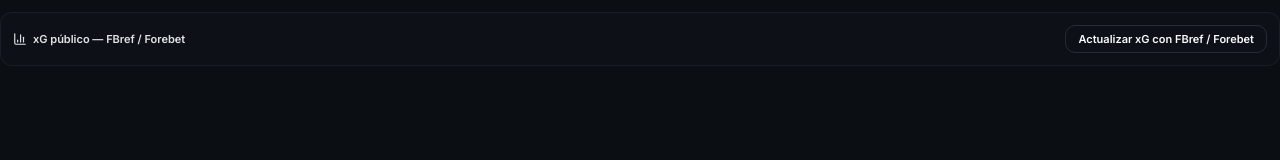
Scenario: PublicXGPanel — fetch trigger › surfaces error message on failed POST
Click the button with test id "public-xg-btn-mt_001" at (1166, 39), box [1066,25,1267,53]
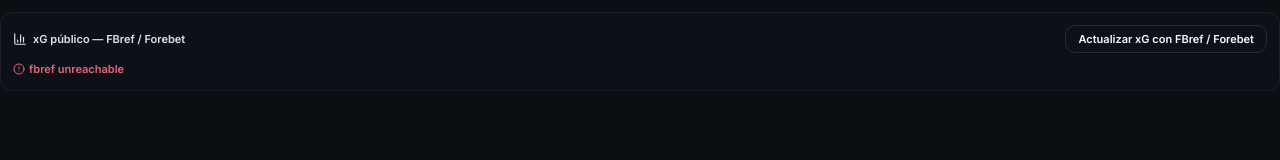
Expected: the element with test id "public-xg-error-mt_001" reads "fbref unreachable", [29,62,124,76]
